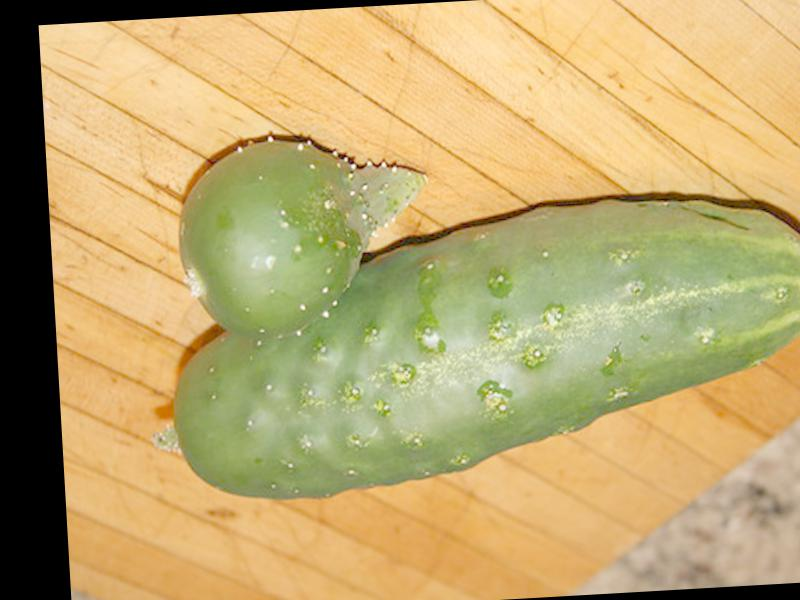Cucumber: (161, 185, 800, 505)
